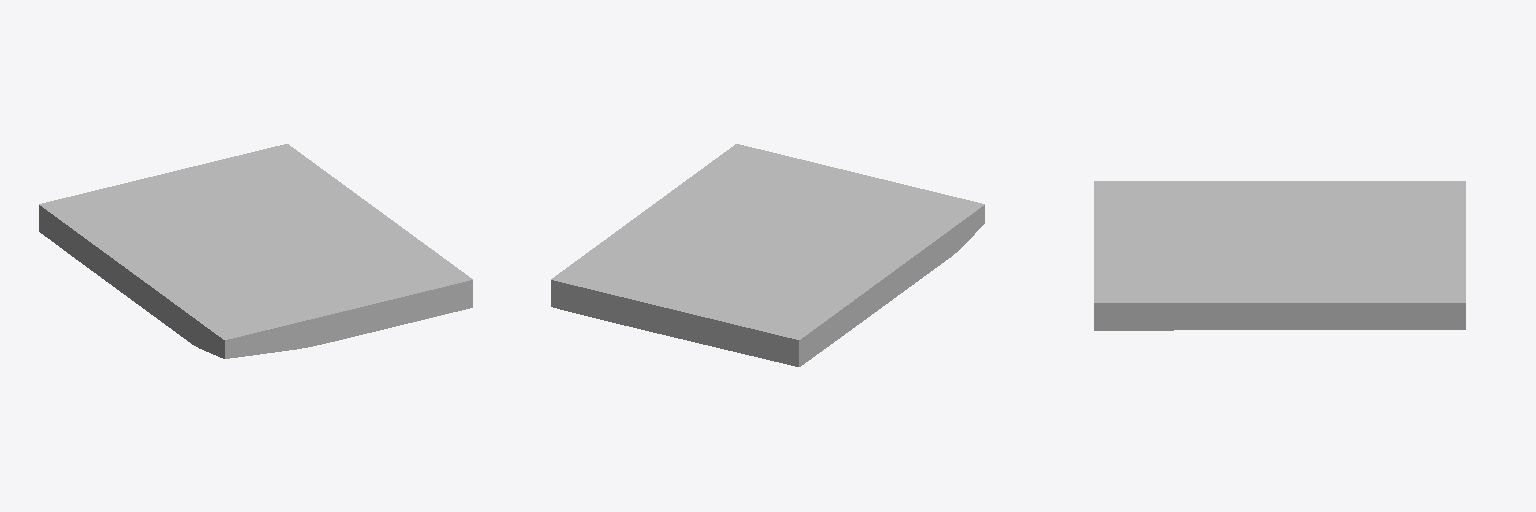
Rendered from pan_collision_5.obj.
The picture shows the model from 3 angles: view 1: azimuth 30°, elevation 25°; view 2: azimuth 150°, elevation 25°; view 3: azimuth 270°, elevation 25°; orthographic projection.
Size of the model in its own units: 0.0733 by 0.0079 by 0.0949.